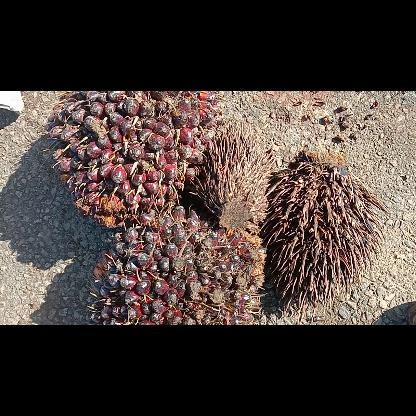Janjang kosong: (259, 150, 387, 324), (190, 122, 274, 230)
TBS mentah: (47, 91, 223, 230), (88, 206, 264, 324)
